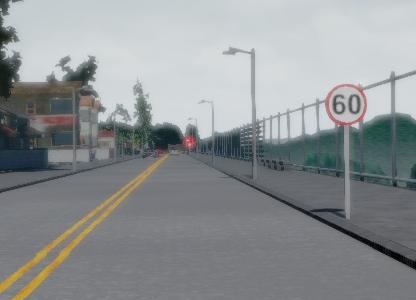Speed_60: (323, 83, 368, 127)
